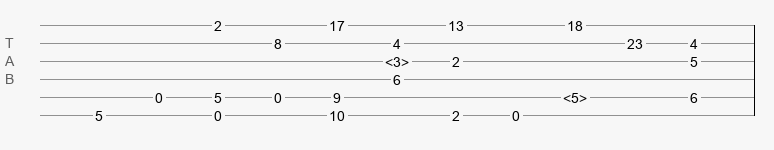0: (155, 90, 163, 100), (214, 108, 222, 118), (274, 90, 282, 100), (512, 108, 520, 118)
10: (329, 108, 345, 118)
13: (448, 18, 464, 28)
17: (329, 18, 345, 28)
18: (567, 18, 583, 28)
2: (214, 18, 222, 28), (452, 54, 460, 64), (452, 108, 460, 118)
23: (627, 36, 643, 46)
4: (393, 36, 401, 46), (690, 36, 698, 46)
5: (95, 108, 103, 118), (214, 90, 222, 100), (690, 54, 698, 64)
6: (393, 72, 401, 82), (690, 90, 698, 100)
8: (274, 36, 282, 46)
9: (333, 90, 341, 100)
harmonic: (385, 54, 409, 64), (563, 90, 587, 100)
